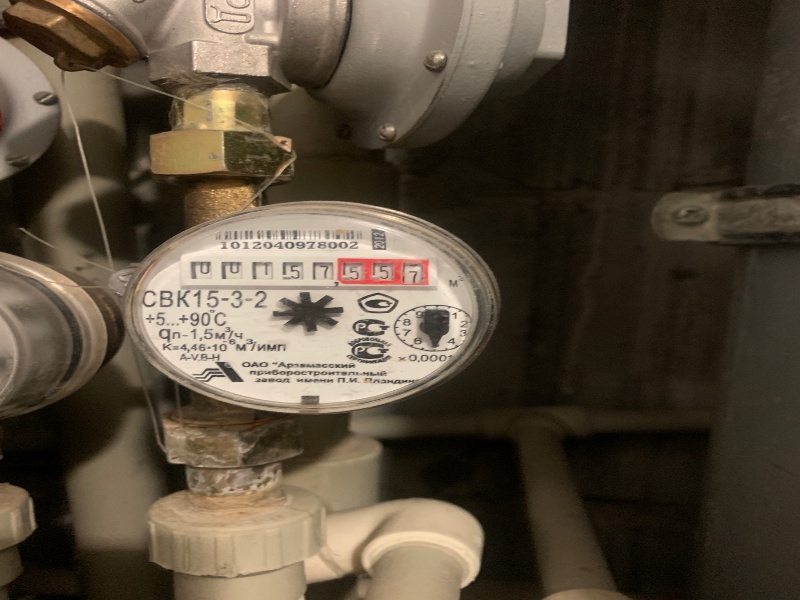meter: (182, 257, 434, 290)
